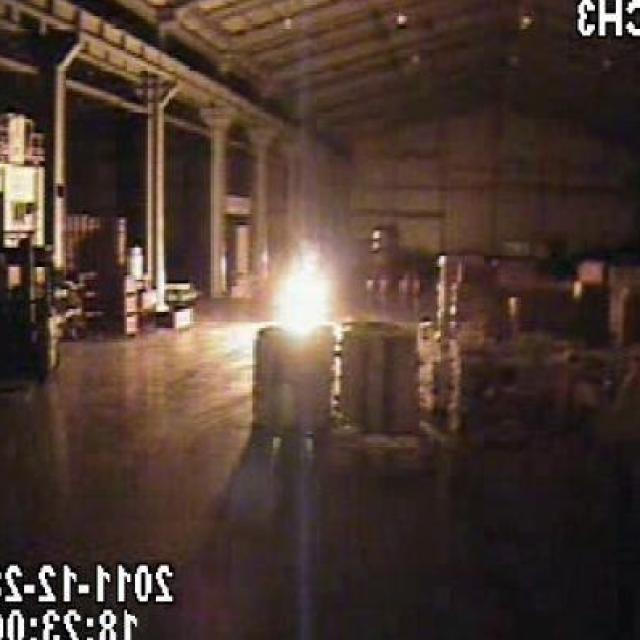smoke: (271, 245, 342, 337)
